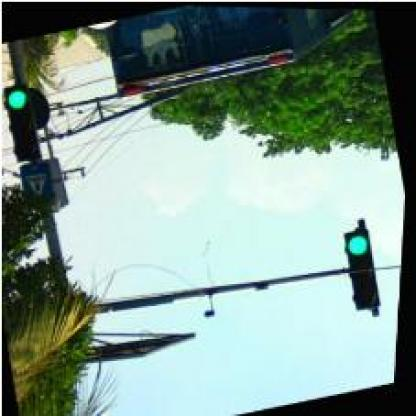green: (342, 225, 388, 310), (0, 83, 44, 163)
